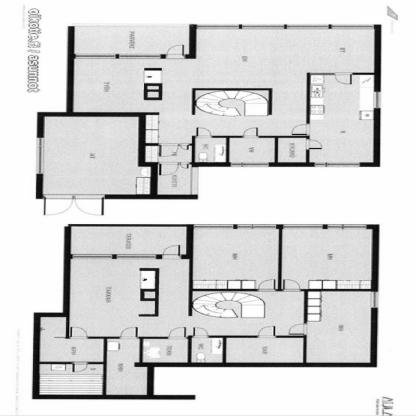door: (40, 193, 107, 218), (155, 159, 179, 176), (160, 245, 183, 260), (164, 43, 186, 58), (302, 138, 324, 152), (288, 124, 312, 136), (166, 327, 189, 338), (336, 72, 353, 86), (69, 327, 90, 338), (158, 144, 177, 156), (117, 326, 139, 336), (258, 279, 278, 289), (291, 324, 309, 335), (70, 362, 89, 372), (194, 127, 210, 137), (282, 280, 298, 290), (258, 325, 274, 335), (243, 128, 260, 137), (191, 326, 206, 336), (178, 142, 190, 152), (177, 162, 190, 170)
window: (195, 24, 373, 31), (190, 222, 233, 229), (324, 224, 366, 231), (312, 162, 358, 168), (234, 224, 276, 230), (232, 161, 266, 168), (37, 138, 43, 176), (279, 223, 322, 228), (114, 54, 159, 58), (114, 254, 156, 258), (72, 254, 113, 258), (372, 92, 381, 110), (370, 292, 379, 309), (73, 54, 113, 57)
zone: (72, 26, 375, 196), (70, 257, 300, 333), (41, 118, 151, 193), (308, 72, 370, 162), (193, 225, 278, 289), (279, 228, 369, 288), (304, 290, 368, 362), (69, 225, 186, 254), (74, 25, 189, 54), (36, 316, 103, 362), (106, 335, 152, 395), (224, 337, 304, 363), (35, 364, 102, 393), (231, 136, 272, 162), (142, 339, 184, 361), (189, 336, 223, 362), (194, 134, 225, 162), (278, 136, 304, 161)
